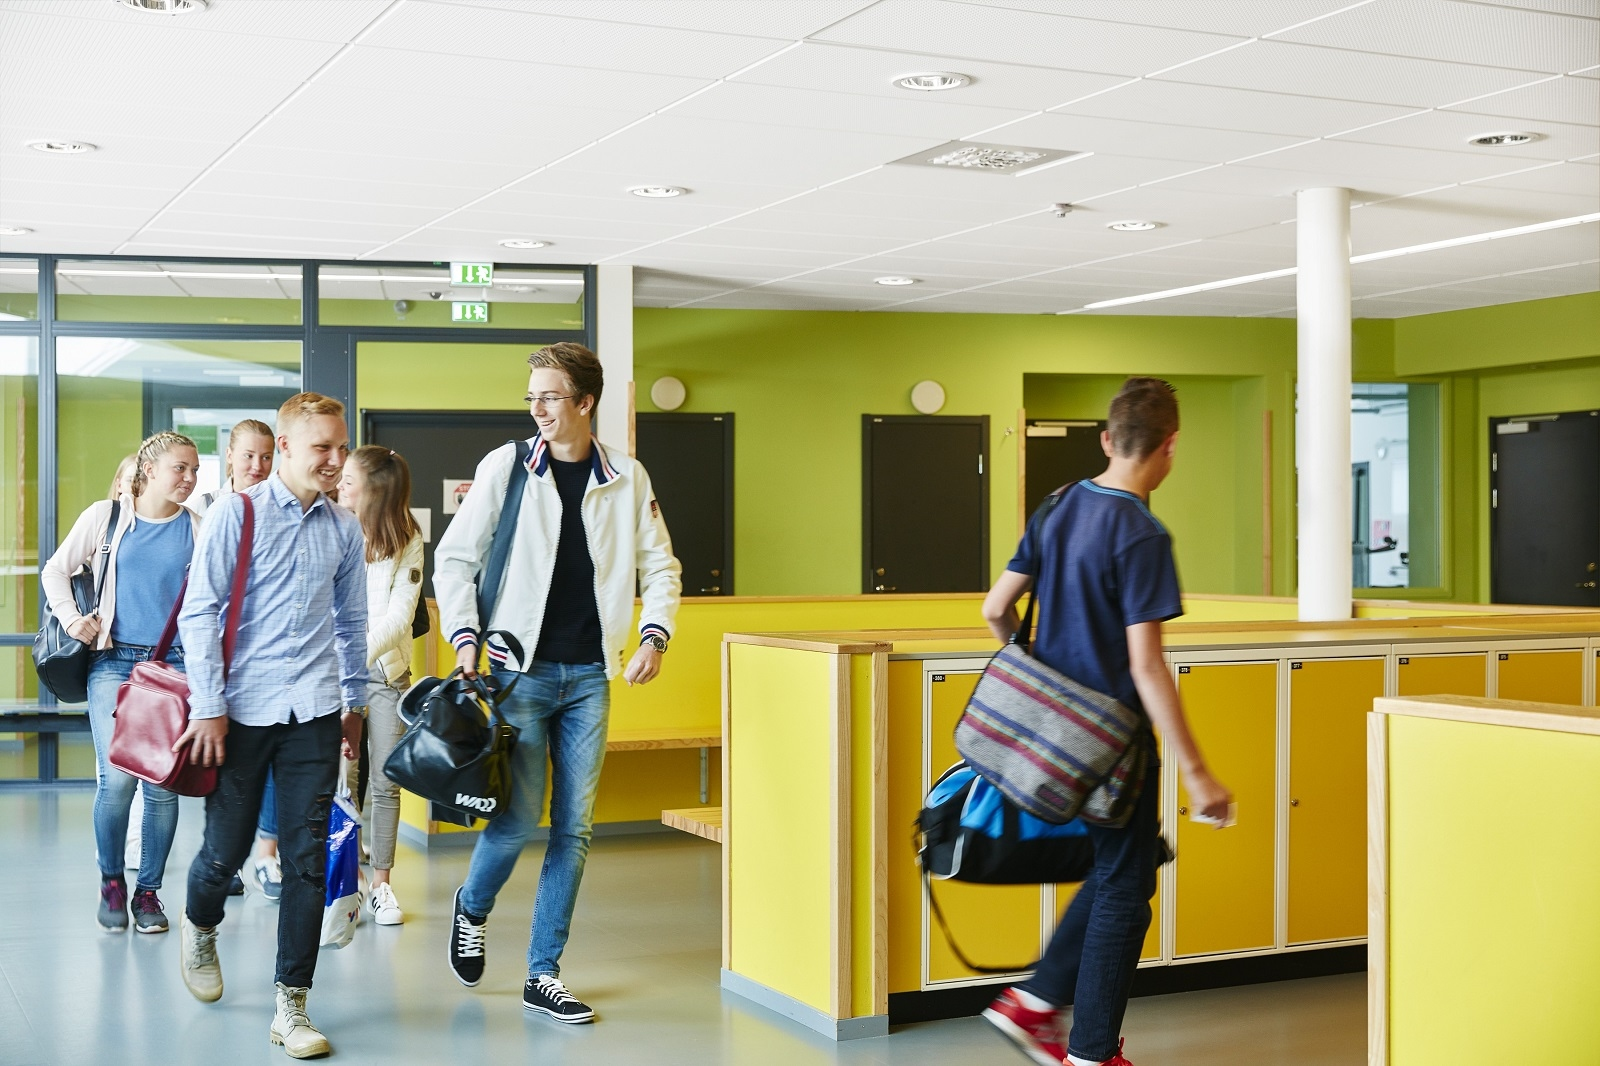students: (912, 376, 1237, 1064), (432, 341, 685, 1023), (179, 393, 367, 1059), (38, 431, 204, 937), (334, 443, 426, 928), (215, 418, 275, 501), (102, 450, 142, 501)
